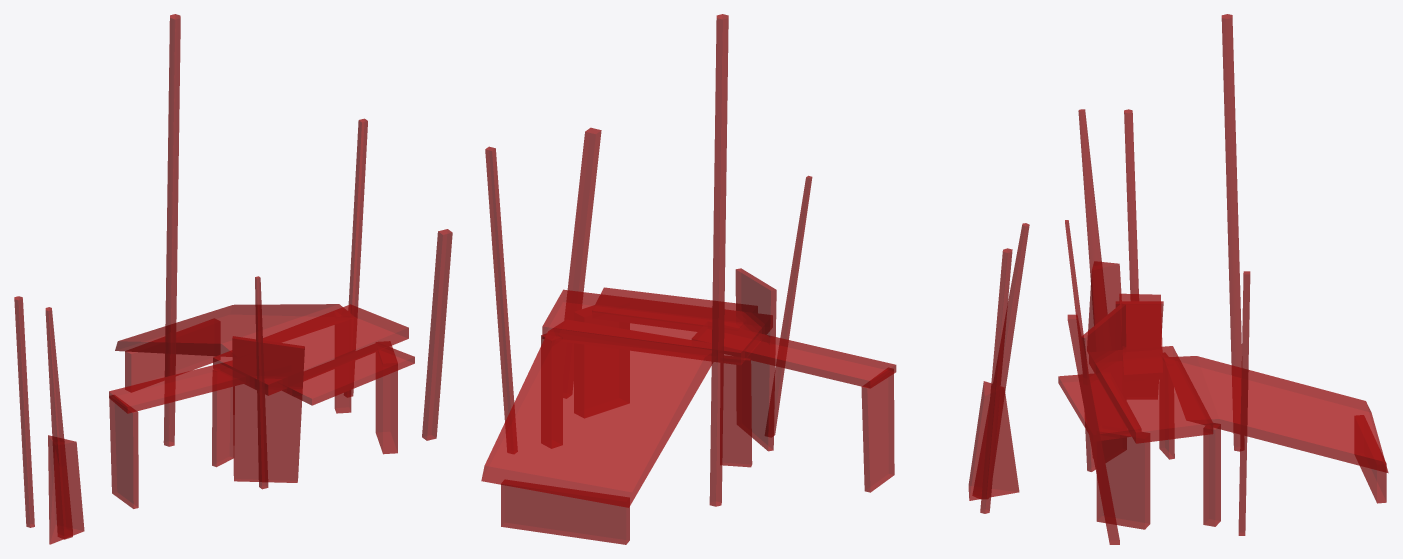
Rendered from SM_Bld_Camp_Tent_03_Collision.fbx.
3 renders of one model, left to right at view 1: azimuth 30°, elevation 25°; view 2: azimuth 150°, elevation 25°; view 3: azimuth 270°, elevation 25°, orthographic. The views are drawn at different scales.
Parts seen in each view (by area): view 1: SM_Bld_Camp_Tent_03_Collision; view 2: SM_Bld_Camp_Tent_03_Collision; view 3: SM_Bld_Camp_Tent_03_Collision.
Boxes of the visible parts, x1,y1,x2,y2 form: SM_Bld_Camp_Tent_03_Collision: [14, 14, 452, 544]; SM_Bld_Camp_Tent_03_Collision: [481, 14, 1029, 544]; SM_Bld_Camp_Tent_03_Collision: [1058, 14, 1388, 544].
Bounding box in the file's own units: 1156 × 1158 × 799.
